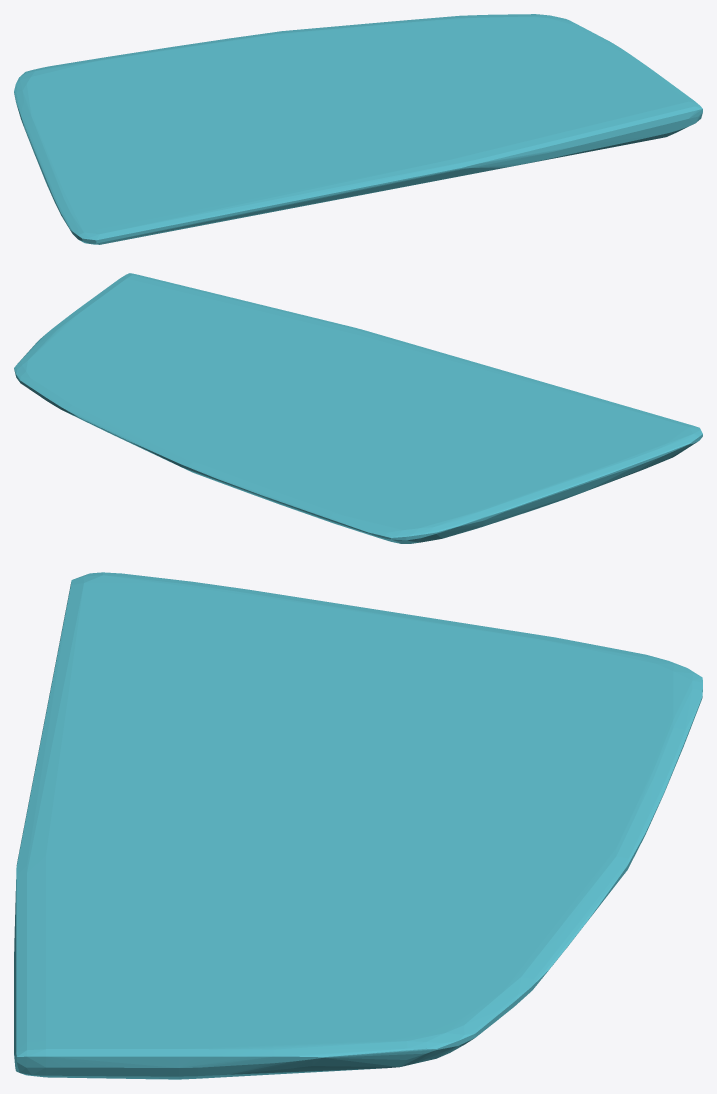
The model's file is left_hip_pitch_link_part_2.obj.
3 views of the same model, one above another, from view 1: azimuth 30°, elevation 25°; view 2: azimuth 150°, elevation 25°; view 3: azimuth 270°, elevation 25° (orthographic). The views are drawn at different scales.
Bounding box in the file's own units: 0.0713 × 0.00289 × 0.0428.
